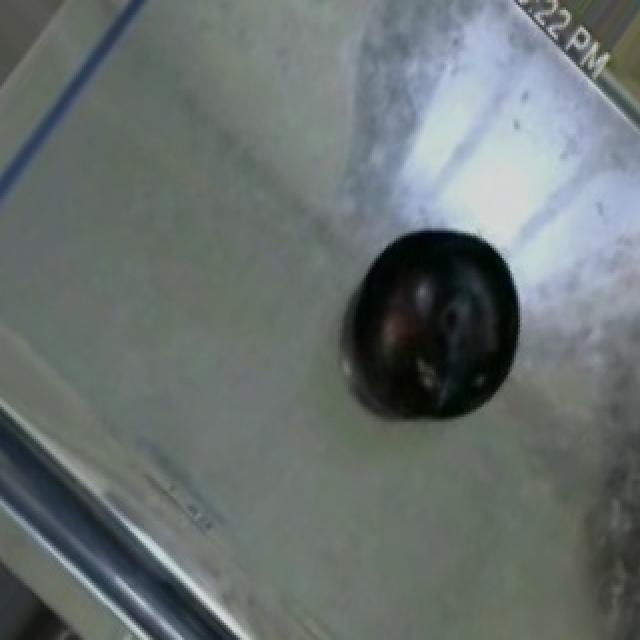Fruit: (590, 0, 640, 139)
